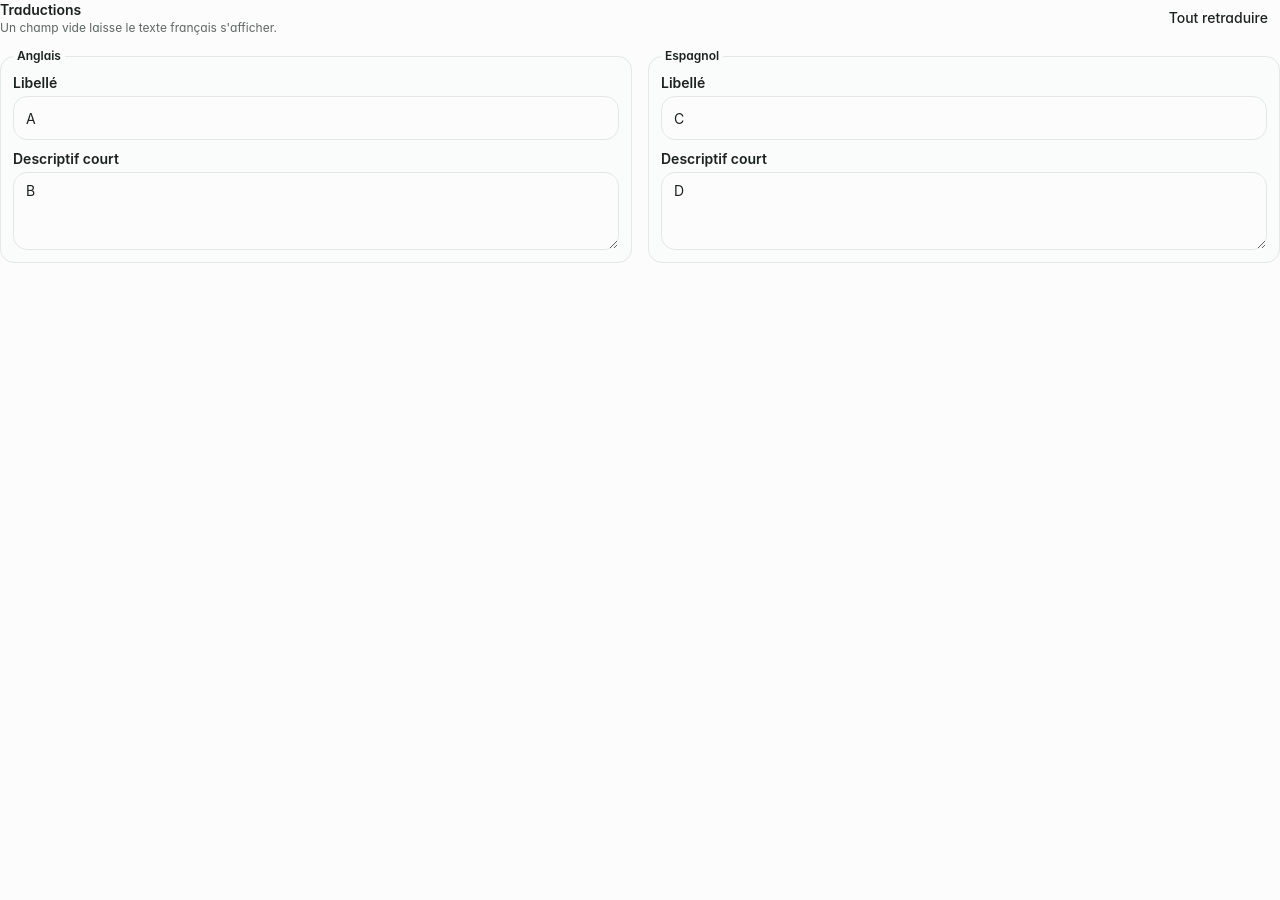
it: TranslationFields — traduction automatique › ne retraduit tout qu'après confirmation — toutes les langues, tous les textes
Click the button "Tout retraduire". click: x=1218, y=18
box: 1157,0 -> 1279,36
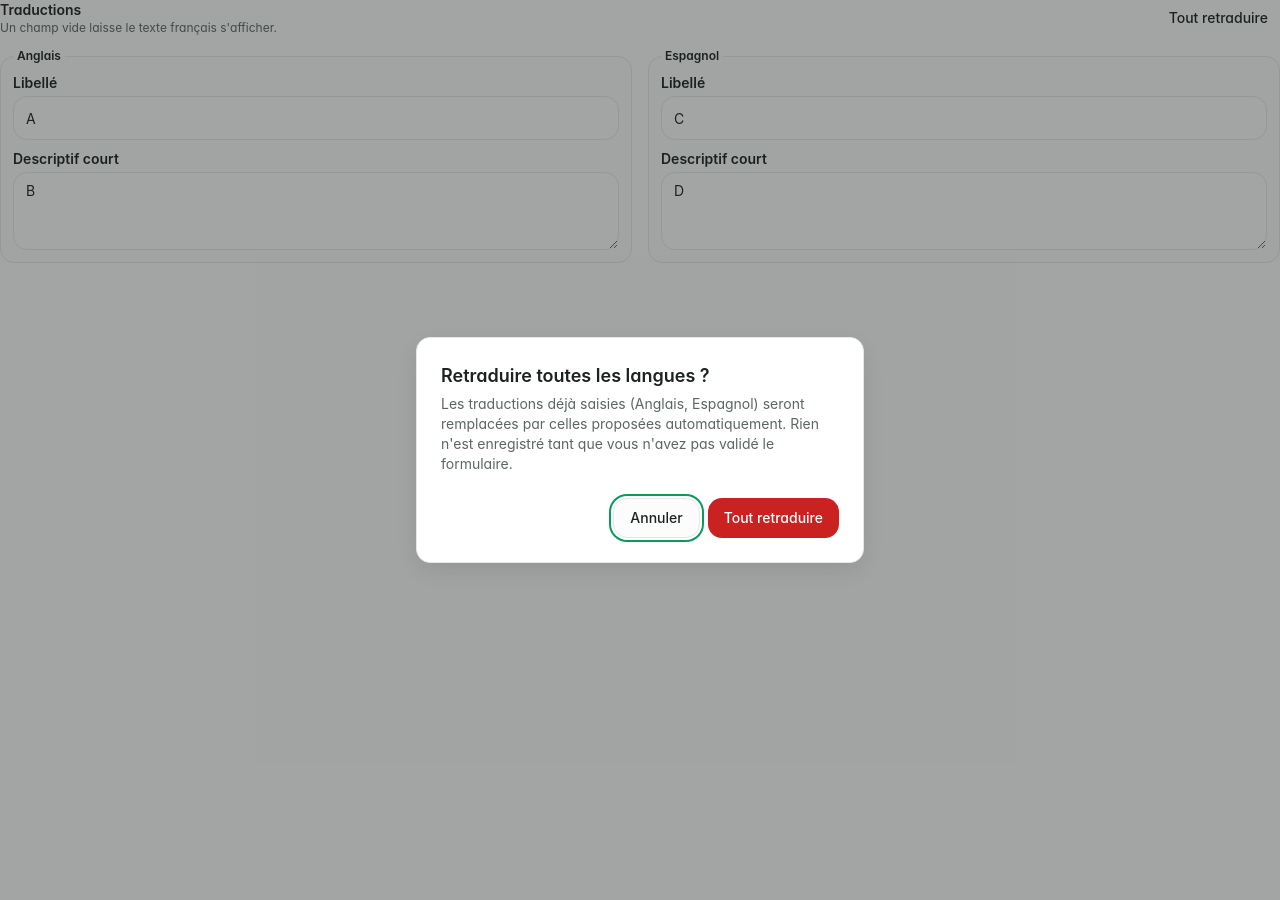
Click the button "Tout retraduire". click: x=773, y=518
box: 708,498 -> 839,538
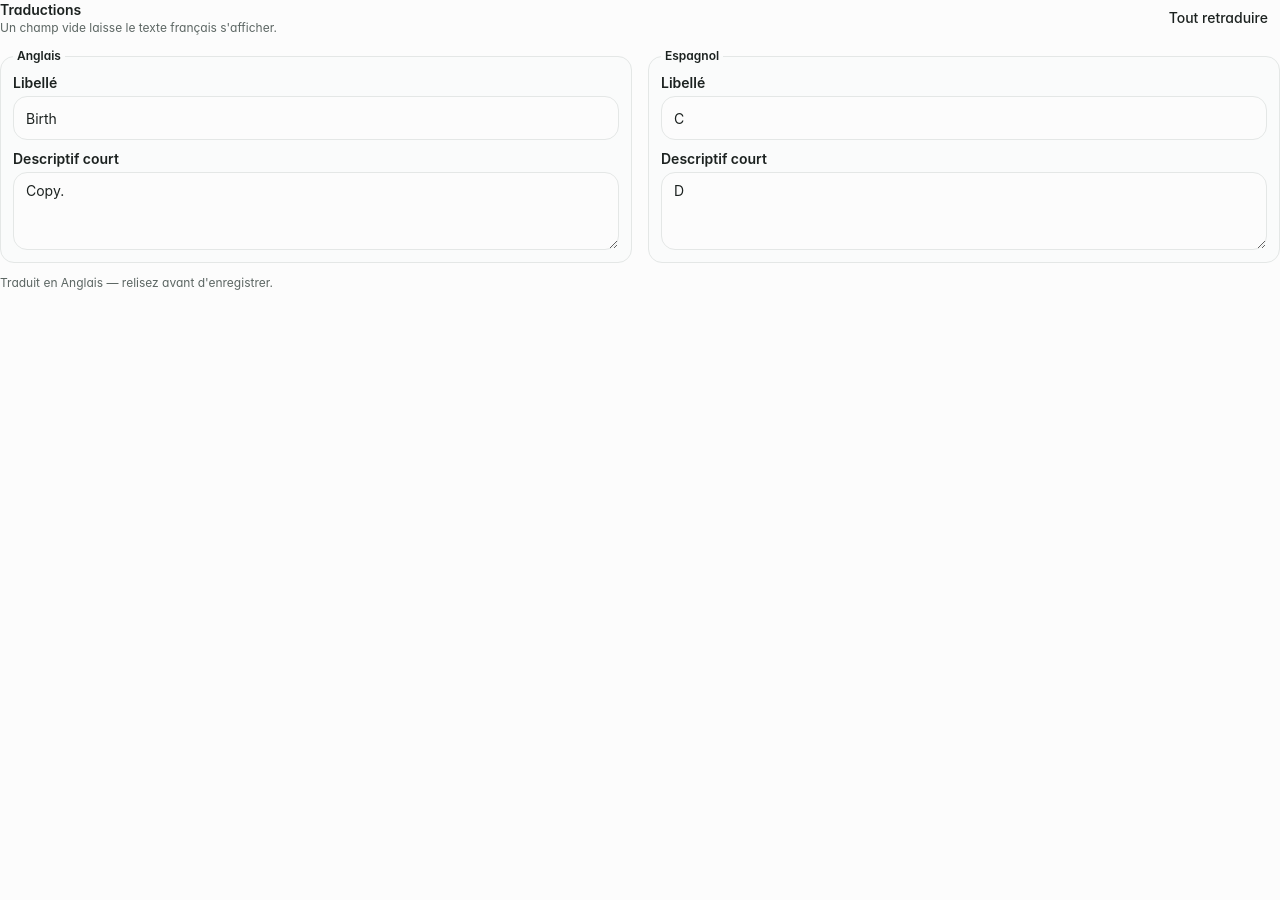
Expected: the 1st field labelled "Libellé" holds "Birth", 13,96 -> 619,140
Expected: the 1st text box labelled "Descriptif court" holds "Copy.", 13,172 -> 619,250
